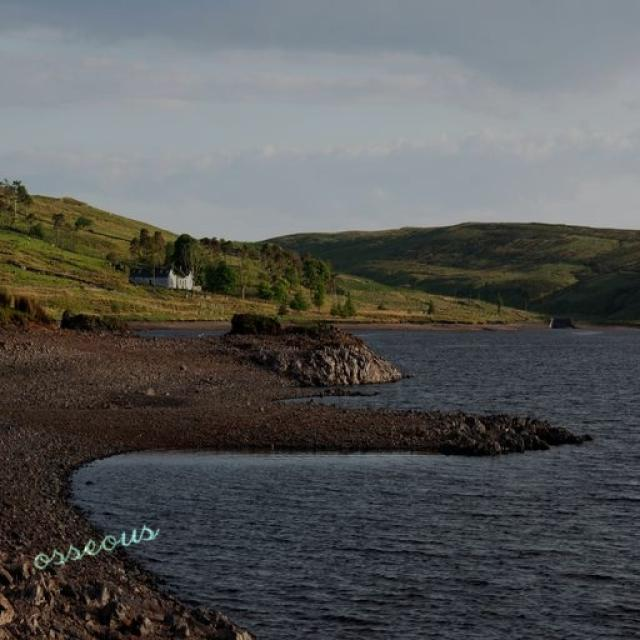watermark: (24, 502, 160, 577)
